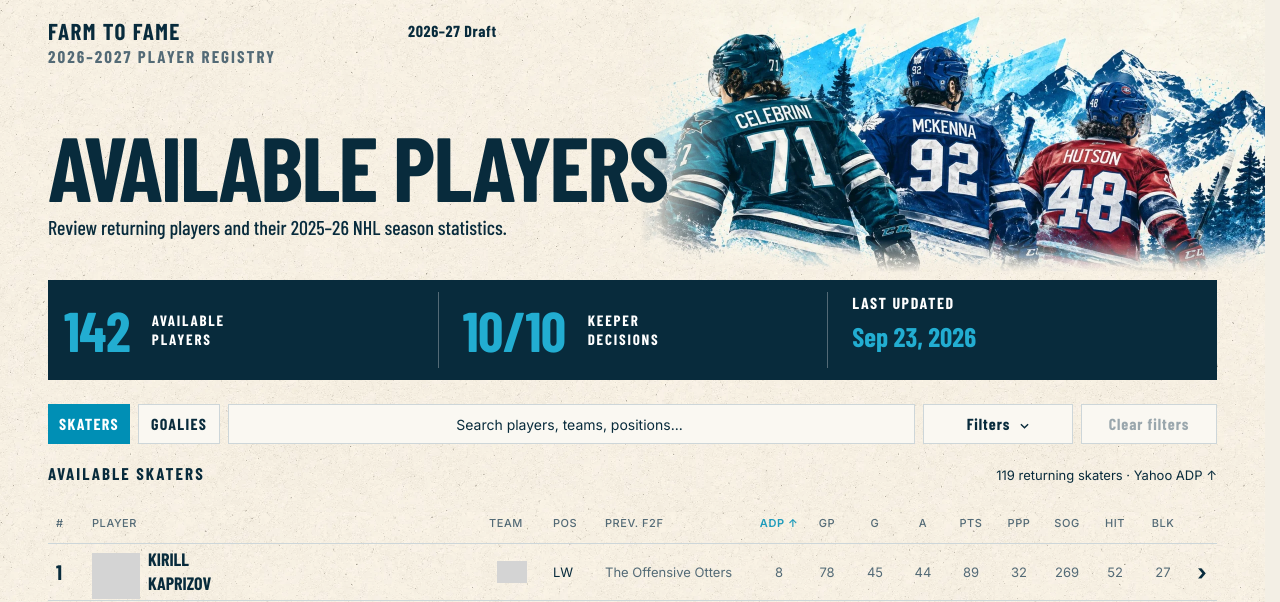
Test: Available Players page › searches immediately and reports the match count
This screenshot has width=1280, height=602.
Type "necas" into the search field labelled "Search players".
click(572, 424); type("necas")  # box [228, 404, 915, 444]
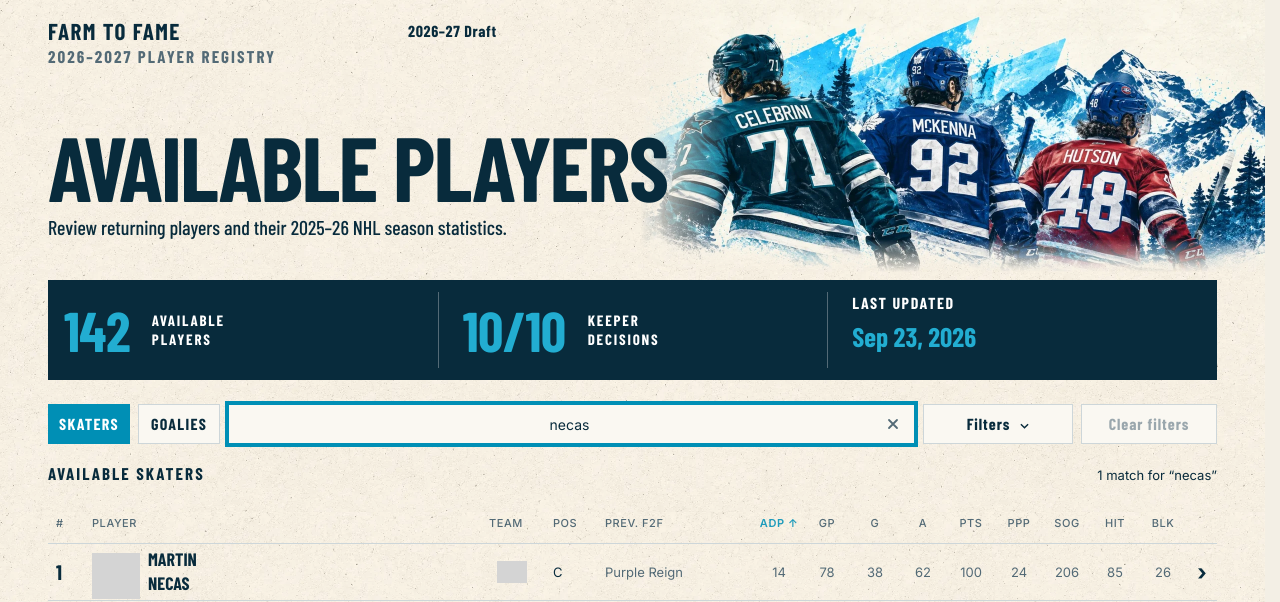
Check: the text "1 match for “necas”" is shown, box [1097, 466, 1217, 484]
